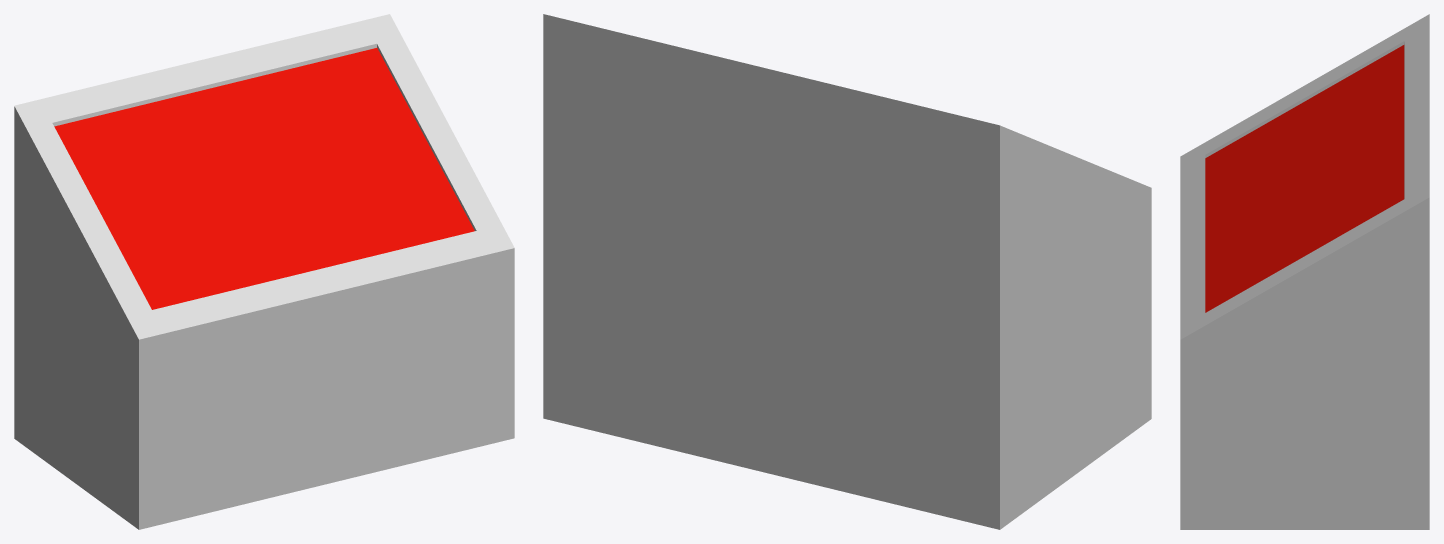
Rendered from weapon_stand_a.fbx.
3 views of the same model, side by side, from view 1: azimuth 30°, elevation 25°; view 2: azimuth 150°, elevation 25°; view 3: azimuth 270°, elevation 25° (orthographic). The views are drawn at different scales.
Parts seen in each view (by area): view 1: Cube; view 2: Cube; view 3: Cube.
Boxes of the visible parts, bbox=[...] form: Cube: bbox=[14, 14, 514, 529]; Cube: bbox=[543, 14, 1151, 529]; Cube: bbox=[1180, 14, 1429, 529].
Size of the model in its own units: 348 by 294 by 200.
